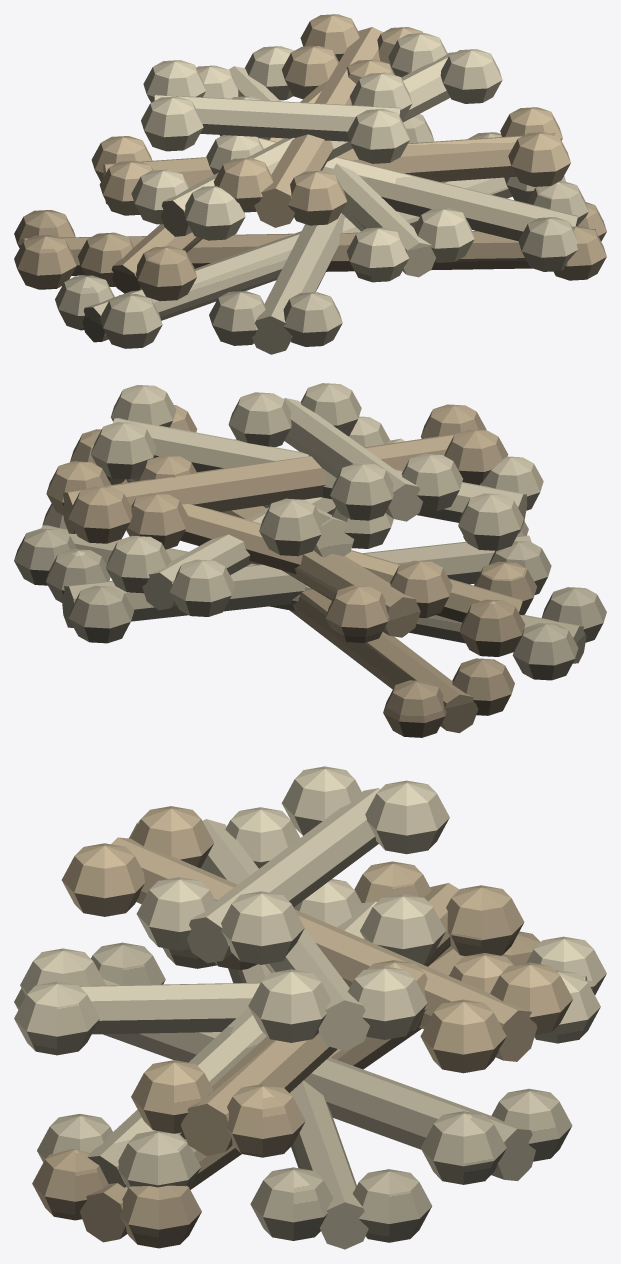
Rendered from boneheap.glb.
3 views of the same model, one above another, from view 1: azimuth 30°, elevation 25°; view 2: azimuth 150°, elevation 25°; view 3: azimuth 270°, elevation 25° (orthographic). The views are drawn at different scales.
Size of the model in its own units: 1.12 by 0.442 by 0.859.
Materials: 1 (1 with a texture image).
